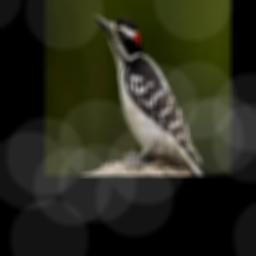Woodpecker: (94, 13, 205, 176)
